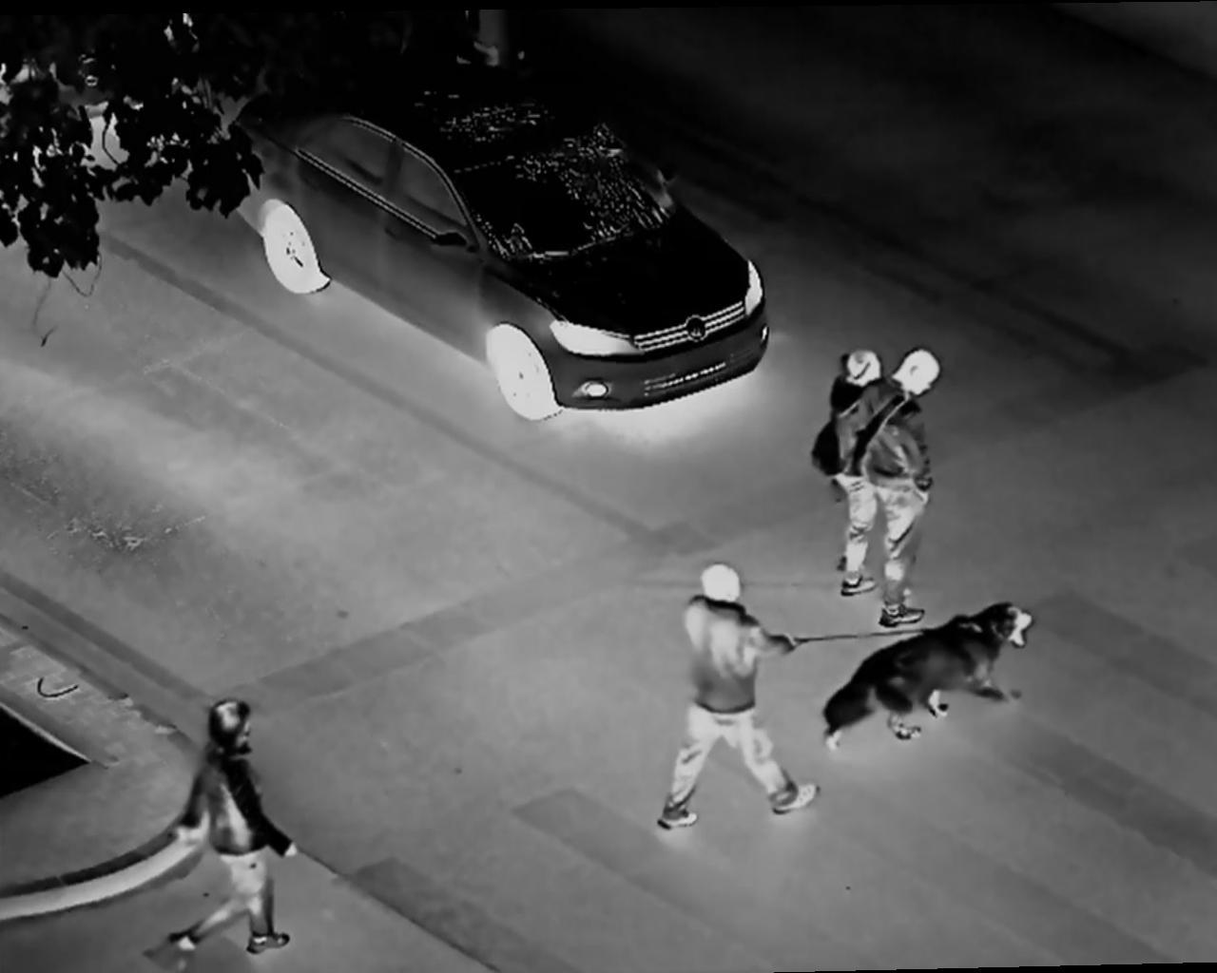person: (669, 566, 823, 824), (160, 692, 294, 973), (865, 348, 944, 629), (825, 348, 889, 591)
